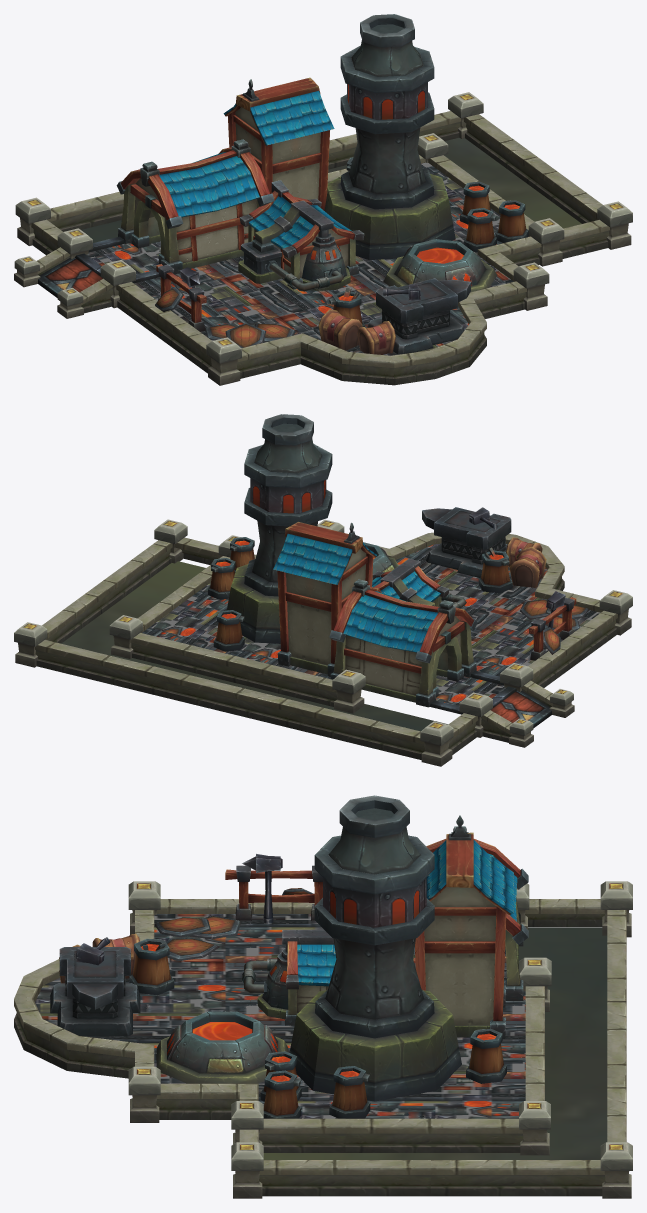
File: JTZD_ShiJiang_02.FBX
3 renders of one model, top to bottom at view 1: azimuth 30°, elevation 25°; view 2: azimuth 150°, elevation 25°; view 3: azimuth 270°, elevation 25°, orthographic. The views are drawn at different scales.
Parts seen in each view (by area): view 1: Object02, Object33, Object27, Object29, Object25, Object24, Object23, Object07, Object08; view 2: Object02, Object33, Object27, Object25, Object29, Object24, Object23; view 3: Object02, Object33, Object27, Object29, Object24, Object23, Object07.
Boxes of the visible parts, <box> form: Object02: <box>14,77,632,385</box>; Object33: <box>148,14,519,354</box>; Object27: <box>86,162,528,355</box>; Object29: <box>324,168,455,259</box>; Object25: <box>159,152,259,217</box>; Object24: <box>223,91,334,145</box>; Object23: <box>249,196,351,248</box>; Object07: <box>282,224,364,258</box>; Object08: <box>269,263,343,291</box>; Object02: <box>14,519,632,766</box>; Object33: <box>216,414,589,670</box>; Object27: <box>142,544,600,705</box>; Object25: <box>343,591,437,652</box>; Object29: <box>227,559,280,643</box>; Object24: <box>273,533,376,584</box>; Object23: <box>372,571,440,601</box>; Object02: <box>14,815,632,1198</box>; Object33: <box>50,795,496,1081</box>; Object27: <box>35,914,525,1118</box>; Object29: <box>289,989,461,1101</box>; Object24: <box>426,840,513,913</box>; Object23: <box>297,944,336,986</box>; Object07: <box>286,941,298,989</box>.
Size of the model in its own units: 786 by 335 by 681.
